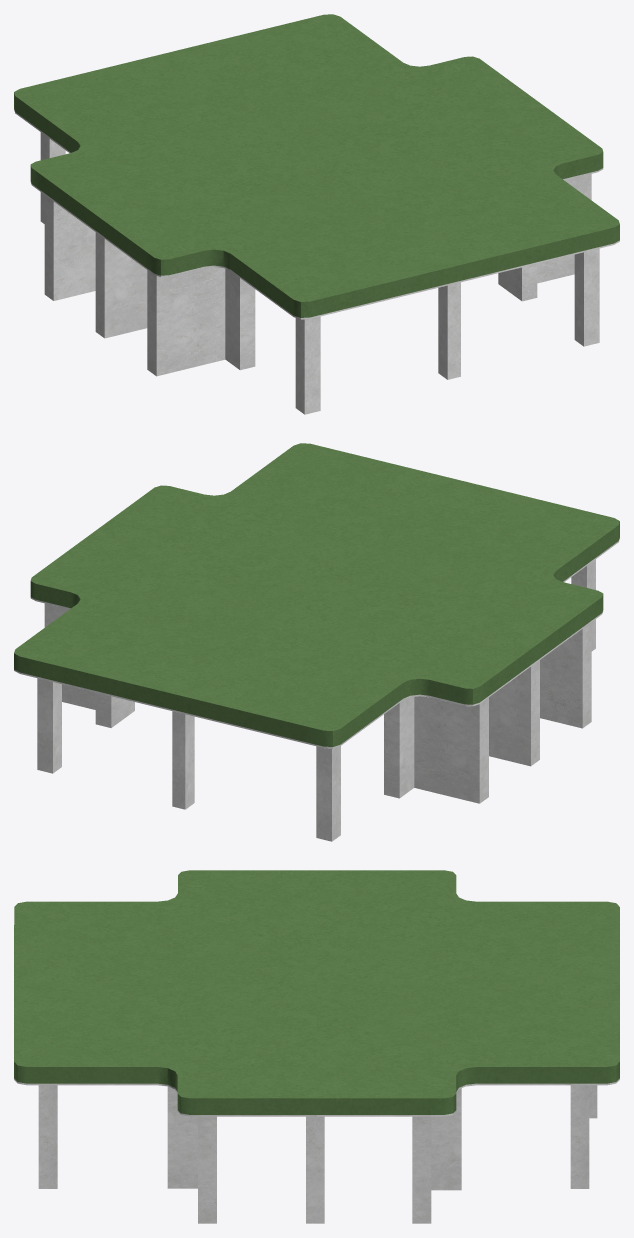
The model's file is VoidDeck.fbx.
The picture shows the model from 3 angles, top to bottom: view 1: azimuth 30°, elevation 25°; view 2: azimuth 150°, elevation 25°; view 3: azimuth 270°, elevation 25°; orthographic projection. The views are drawn at different scales.
Visible parts, largest first — view 1: VoidDeck, VoidDeck_CornerPillar4, VoidDeck_MiddlePillar2, VoidDeck_CornerPillar5, VoidDeck_SidePillar1, VoidDeck_SidePillar, VoidDeck_CornerPillar, VoidDeck_MiddlePillar1, VoidDeck_SidePillar3; view 2: VoidDeck, VoidDeck_CornerPillar5, VoidDeck_CornerPillar4, VoidDeck_MiddlePillar2, VoidDeck_SidePillar3, VoidDeck_SidePillar2, VoidDeck_MiddlePillar3, VoidDeck_CornerPillar3, VoidDeck_SidePillar1; view 3: VoidDeck, VoidDeck_CornerPillar, VoidDeck_CornerPillar3, VoidDeck_SidePillar, VoidDeck_SidePillar2, VoidDeck_MiddlePillar.
Boxes of the visible parts, box(x1,y1,x2,y2) form: VoidDeck: box(14, 14, 619, 319); VoidDeck_CornerPillar4: box(147, 267, 255, 376); VoidDeck_MiddlePillar2: box(95, 232, 147, 338); VoidDeck_CornerPillar5: box(44, 195, 95, 300); VoidDeck_SidePillar1: box(295, 316, 320, 414); VoidDeck_SidePillar: box(574, 248, 599, 346); VoidDeck_CornerPillar: box(498, 174, 591, 301); VoidDeck_MiddlePillar1: box(438, 282, 460, 379); VoidDeck_SidePillar3: box(40, 132, 65, 223); VoidDeck: box(14, 443, 619, 748); VoidDeck_CornerPillar5: box(384, 696, 488, 803); VoidDeck_CornerPillar4: box(540, 622, 591, 728); VoidDeck_MiddlePillar2: box(489, 660, 539, 766); VoidDeck_SidePillar3: box(316, 746, 340, 841); VoidDeck_SidePillar2: box(37, 678, 61, 773); VoidDeck_MiddlePillar3: box(172, 711, 194, 809); VoidDeck_CornerPillar3: box(44, 603, 134, 727); VoidDeck_SidePillar1: box(571, 559, 595, 651); VoidDeck: box(14, 870, 619, 1116); VoidDeck_CornerPillar: box(167, 1086, 216, 1223); VoidDeck_CornerPillar3: box(412, 1088, 461, 1223); VoidDeck_SidePillar: box(38, 1085, 57, 1188); VoidDeck_SidePillar2: box(570, 1085, 589, 1188); VoidDeck_MiddlePillar: box(306, 1116, 324, 1223).
Size of the model in its own units: 1635 by 431 by 1838.
1 material, 1 textured.
